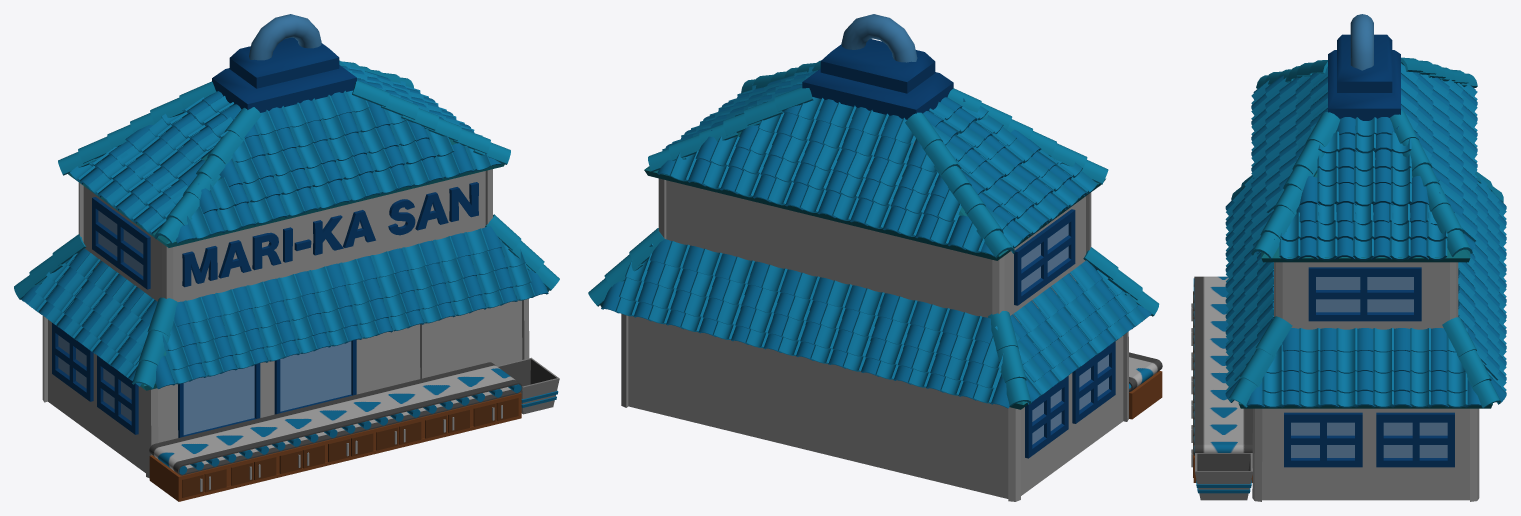
Rendered from MARIKA-SAN RESTAURANT.fbx.
3 views of the same model, side by side, from view 1: azimuth 30°, elevation 25°; view 2: azimuth 150°, elevation 25°; view 3: azimuth 270°, elevation 25° (orthographic). The views are drawn at different scales.
Parts seen in each view (by area): view 1: polySurface36, polySurface419, polySurface421, polySurface737, polySurface447, polySurface376, polySurface30, polySurface423, polySurface412, pCube38, pCube30, polySurface425 (+14 smaller); view 2: polySurface419, polySurface421, polySurface737, polySurface376, polySurface30, polySurface423, pCube28, pCube37, pTorus1, polySurface411, polySurface422, polySurface425 (+1 smaller); view 3: polySurface411, polySurface31, polySurface423, polySurface419, polySurface737, polySurface447, polySurface36, polySurface421, polySurface427, pCube28, pCube37, pTorus1 (+2 smaller).
Part boxes in pixels (x1=…): polySurface36: x1=155, y1=226, x2=548, y2=388; polySurface419: x1=42, y1=298, x2=529, y2=478; polySurface421: x1=78, y1=169, x2=492, y2=304; polySurface737: x1=14, y1=60, x2=559, y2=388; polySurface447: x1=149, y1=362, x2=522, y2=475; polySurface376: x1=69, y1=91, x2=241, y2=234; polySurface30: x1=21, y1=248, x2=157, y2=386; polySurface423: x1=52, y1=197, x2=150, y2=434; polySurface412: x1=182, y1=182, x2=478, y2=287; pCube38: x1=274, y1=339, x2=356, y2=414; pCube30: x1=178, y1=363, x2=260, y2=437; polySurface425: x1=149, y1=392, x2=521, y2=501; polySurface419: x1=621, y1=314, x2=1128, y2=501; polySurface421: x1=658, y1=141, x2=1091, y2=322; polySurface737: x1=588, y1=60, x2=1159, y2=406; polySurface376: x1=923, y1=97, x2=1097, y2=248; polySurface30: x1=995, y1=260, x2=1151, y2=404; polySurface423: x1=1014, y1=209, x2=1115, y2=458; pCube28: x1=802, y1=69, x2=953, y2=119; pCube37: x1=820, y1=39, x2=935, y2=93; pTorus1: x1=841, y1=14, x2=917, y2=62; polySurface411: x1=662, y1=66, x2=817, y2=150; polySurface422: x1=644, y1=131, x2=1105, y2=260; polySurface425: x1=1129, y1=371, x2=1162, y2=419; polySurface411: x1=1279, y1=117, x2=1447, y2=260; polySurface31: x1=1244, y1=328, x2=1481, y2=407; polySurface423: x1=1284, y1=267, x2=1454, y2=467; polySurface419: x1=1252, y1=408, x2=1479, y2=501; polySurface737: x1=1228, y1=57, x2=1503, y2=408; polySurface447: x1=1194, y1=276, x2=1252, y2=455; polySurface36: x1=1225, y1=176, x2=1273, y2=402; polySurface421: x1=1274, y1=262, x2=1458, y2=329; polySurface427: x1=1195, y1=453, x2=1252, y2=500; pCube28: x1=1328, y1=50, x2=1400, y2=120; pCube37: x1=1337, y1=34, x2=1392, y2=92; pTorus1: x1=1350, y1=14, x2=1373, y2=70.
Bounding box in the file's own units: 37.4 × 31.83 × 23.45.
